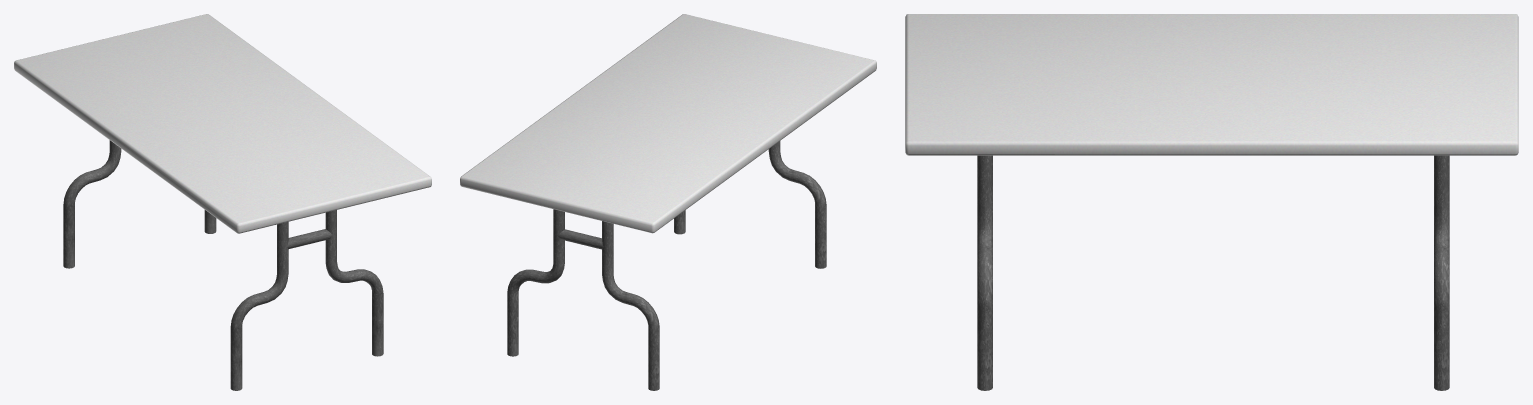
Rendered from Table.FBX.
3 renders of one model, left to right at view 1: azimuth 30°, elevation 25°; view 2: azimuth 150°, elevation 25°; view 3: azimuth 270°, elevation 25°, orthographic. The views are drawn at different scales.
Parts seen in each view (by area): view 1: Table; view 2: Table; view 3: Table.
Boxes of the visible parts, x1,y1,x2,y2 form: Table: (14,14,431,390); Table: (460,14,876,390); Table: (905,14,1518,390).
Size of the model in its own units: 25.32 by 23.83 by 50.51.
